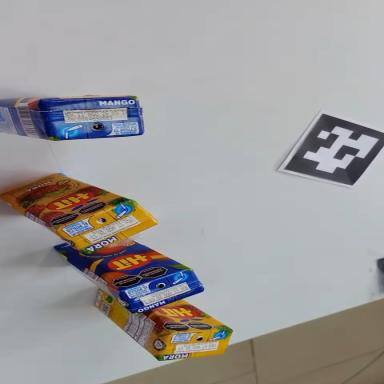HIT-MANGO: (44, 210, 210, 337), (0, 96, 144, 140)
HIT-MORA: (0, 156, 162, 273), (89, 289, 235, 368)
cara_F: (48, 211, 191, 315), (0, 150, 132, 245), (146, 286, 232, 358)
